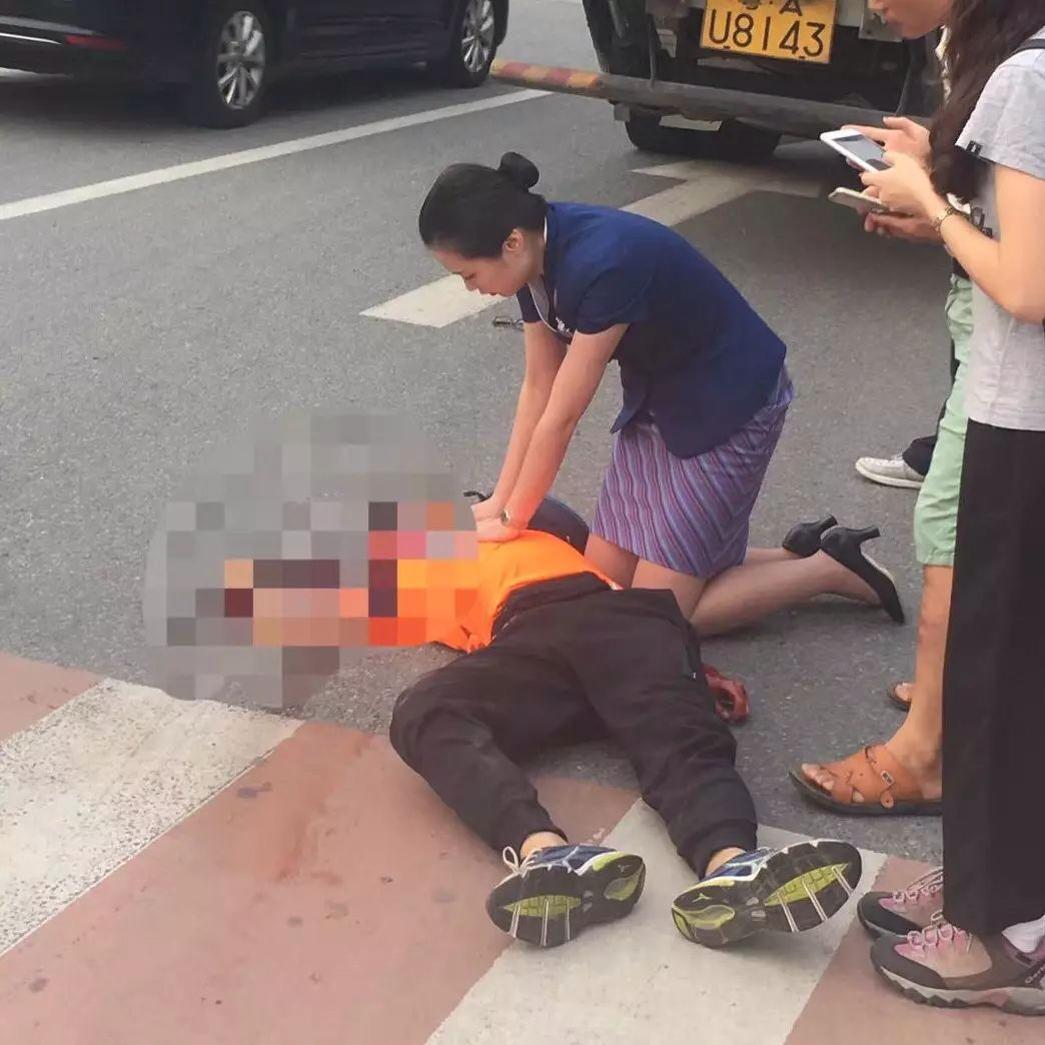Fall-Detected: (260, 408, 918, 973)
